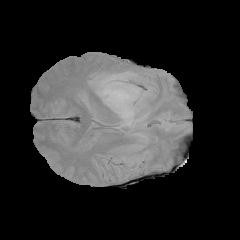glioma: (86, 70, 150, 126)
